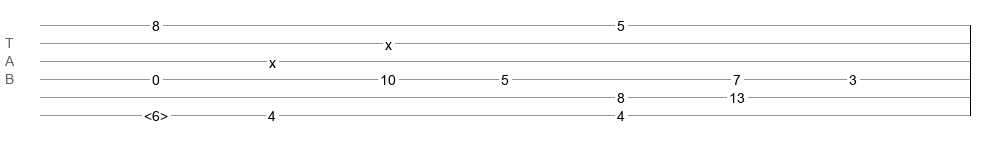0: (152, 72, 160, 82)
10: (380, 72, 396, 82)
13: (729, 90, 745, 100)
3: (849, 72, 857, 82)
4: (268, 108, 276, 118), (617, 108, 625, 118)
5: (501, 72, 509, 82), (617, 18, 625, 28)
7: (733, 72, 741, 82)
8: (152, 18, 160, 28), (617, 90, 625, 100)
harmonic: (144, 108, 168, 118)
x: (269, 55, 276, 63), (385, 37, 392, 45)
